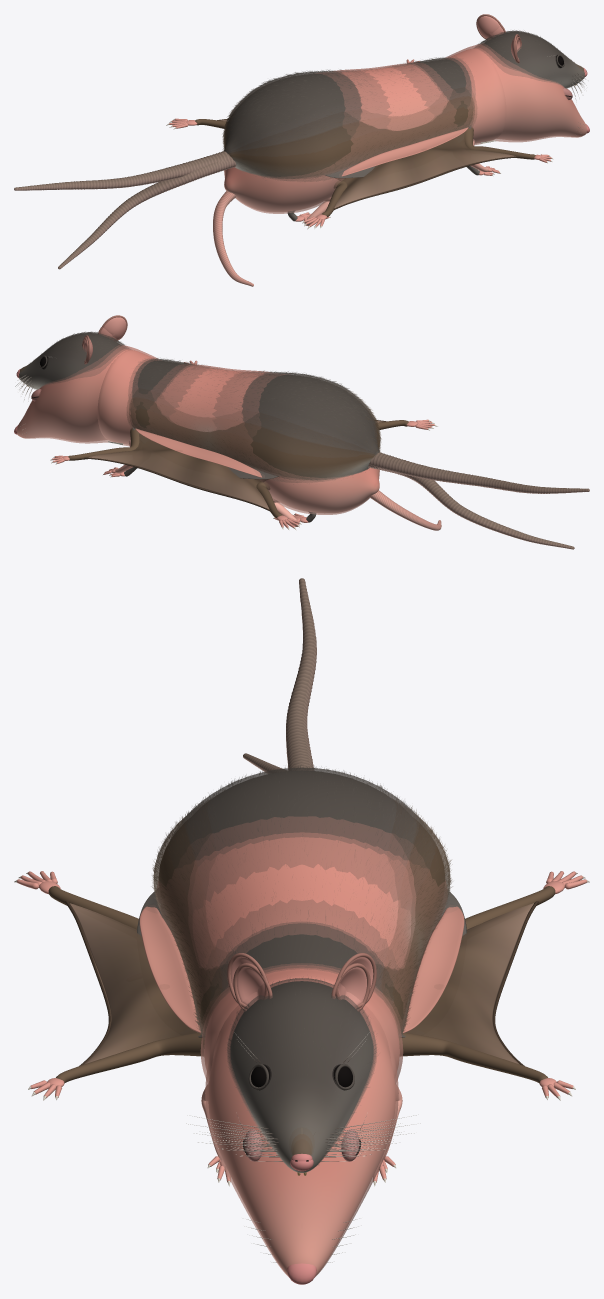
The model's file is tetrapod-dab55d0321b2.glb.
3 views of the same model, one above another, from view 1: azimuth 30°, elevation 25°; view 2: azimuth 150°, elevation 25°; view 3: azimuth 270°, elevation 25° (orthographic). The views are drawn at different scales.
Parts seen in each view (by area): view 1: slot:skin (×3), slot:trunk (×3), slot:head (×2), slot:wing_membrane:right (×2), slot:tail (×3), deco:skin:fur (×2), slot:forelimb:right, deco:wing_membrane:rim; view 2: slot:skin (×3), slot:trunk (×3), slot:head (×2), slot:wing_membrane:left (×3), slot:tail (×3), deco:skin:fur (×2), slot:forelimb:left, deco:wing_membrane:rim, slot:ear:right, slot:hindlimb:left; view 3: slot:skin (×3), slot:trunk (×3), slot:head (×2), slot:wing_membrane:right (×2), slot:wing_membrane:left (×2), slot:tail, deco:skin:fur, slot:forelimb:left, slot:forelimb:right, slot:hindlimb:left, slot:hindlimb:right.
Boxes of the visible parts, box(x1,y1,x2,y2) form: slot:skin (×3): box(224, 31, 586, 213); slot:trunk (×3): box(224, 48, 506, 212); slot:head (×2): box(474, 32, 586, 140); slot:wing_membrane:right (×2): box(334, 127, 515, 208); slot:tail (×3): box(14, 151, 253, 286); deco:skin:fur (×2): box(222, 30, 574, 180); slot:forelimb:right: box(464, 127, 535, 159); deco:wing_membrane:rim: box(333, 156, 519, 210); slot:skin (×3): box(17, 332, 379, 514); slot:trunk (×3): box(97, 350, 379, 513); slot:head (×2): box(17, 333, 129, 441); slot:wing_membrane:left (×3): box(88, 427, 280, 509); slot:tail (×3): box(368, 452, 589, 549); deco:skin:fur (×2): box(28, 331, 381, 481); slot:forelimb:left: box(68, 428, 139, 460); deco:wing_membrane:rim: box(84, 457, 270, 511); slot:ear:right: box(103, 317, 126, 339); slot:hindlimb:left: box(256, 481, 281, 518); slot:skin (×3): box(153, 767, 450, 1276); slot:trunk (×3): box(159, 770, 445, 1078); slot:head (×2): box(208, 979, 395, 1275); slot:wing_membrane:right (×2): box(70, 903, 201, 1064); slot:wing_membrane:left (×2): box(402, 903, 533, 1064); slot:tail: box(286, 578, 316, 770); deco:skin:fur: box(151, 788, 452, 1035); slot:forelimb:left: box(399, 1032, 547, 1083); slot:forelimb:right: box(56, 1032, 204, 1083); slot:hindlimb:left: box(465, 886, 555, 929); slot:hindlimb:right: box(48, 886, 138, 929).
Size of the model in its own units: 5.05 by 1.32 by 2.25.
